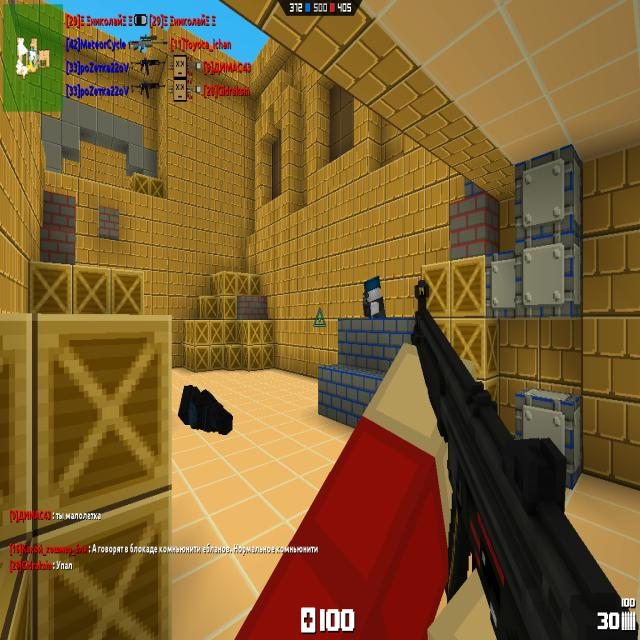enemy: (363, 276, 387, 317)
